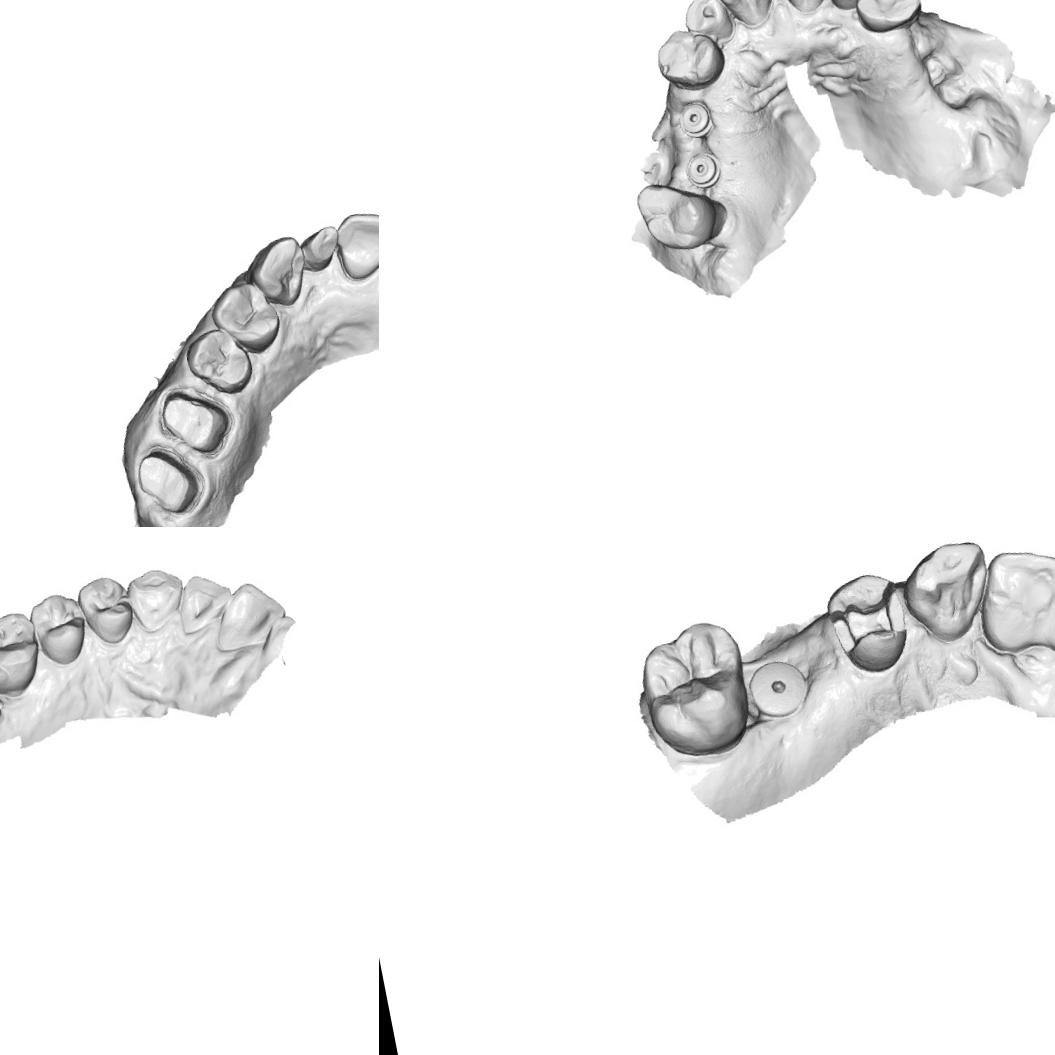canine: (895, 532, 1000, 650), (239, 232, 310, 314), (120, 560, 191, 637)
crown: (155, 377, 240, 465), (130, 439, 208, 523), (294, 221, 344, 276)
implant: (745, 654, 815, 726), (674, 97, 719, 143), (679, 147, 724, 191)
incisor: (965, 539, 1055, 658), (206, 572, 293, 654), (172, 565, 238, 634), (329, 202, 379, 285), (1026, 547, 1055, 672), (677, 0, 739, 50), (708, 0, 783, 34), (768, 0, 841, 18)
inlay: (821, 576, 912, 658)
molar: (630, 613, 762, 766), (632, 171, 730, 259), (0, 605, 47, 701)
premolar: (204, 272, 286, 361), (179, 319, 260, 403), (650, 20, 730, 96), (25, 586, 93, 670), (74, 569, 140, 651), (848, 0, 926, 37)
